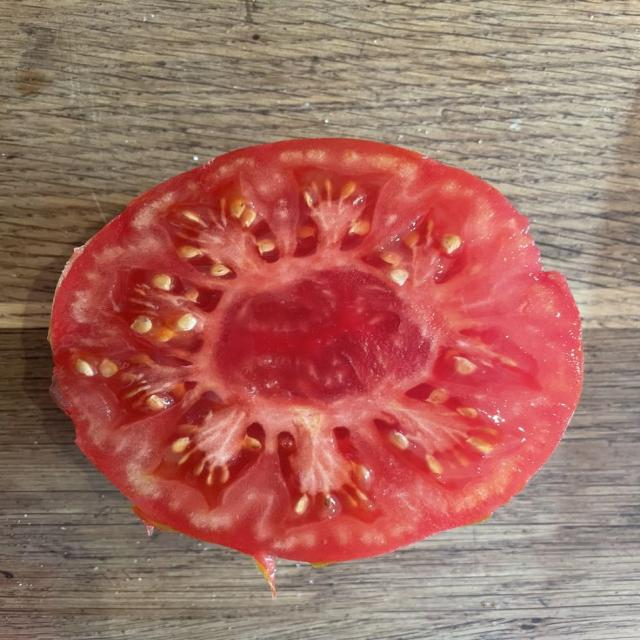sliced tomatoe: (51, 140, 581, 574)
